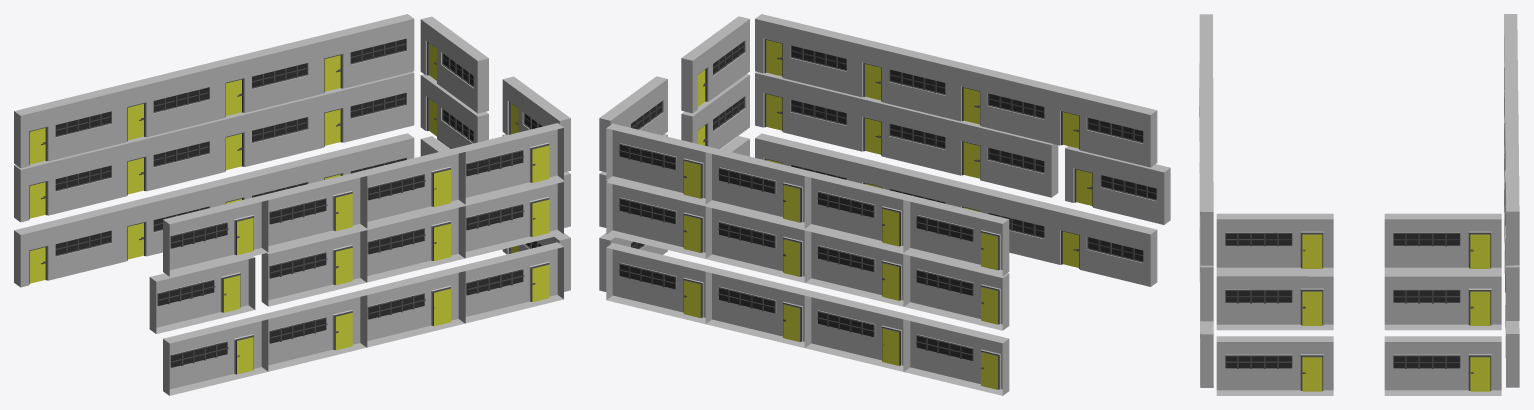
The model's file is appart zone 1.fbx.
The picture shows the model from 3 angles, left to right: view 1: azimuth 30°, elevation 25°; view 2: azimuth 150°, elevation 25°; view 3: azimuth 270°, elevation 25°; orthographic projection. The views are drawn at different scales.
Visible parts, largest first — view 1: MSH_facade_porte_appartement_01__58_, MSH_facade_porte_appartement_01__74_, MSH_facade_porte_appartement_01__46_, MSH_facade_porte_appartement_01__70_, MSH_facade_porte_appartement_01__73_, MSH_facade_porte_appartement_01__57_, MSH_facade_porte_appartement_01__72_, MSH_facade_porte_appartement_01__56_, MSH_facade_porte_appartement_01__67_, MSH_facade_porte_appartement_01__47_, MSH_facade_porte_appartement_01__75_, MSH_facade_porte_appartement_01__59_ (+16 smaller); view 2: MSH_facade_porte_appartement_01__59_, MSH_facade_porte_appartement_01__75_, MSH_facade_porte_appartement_01__71_, MSH_facade_porte_appartement_01__47_, MSH_facade_porte_appartement_01__46_, MSH_facade_porte_appartement_01__70_, MSH_facade_porte_appartement_01__44_, MSH_facade_porte_appartement_01__68_, MSH_facade_porte_appartement_01__45_, MSH_facade_porte_appartement_01__69_, MSH_facade_porte_appartement_01__56_, MSH_facade_porte_appartement_01__58_ (+16 smaller); view 3: MSH_facade_porte_appartement_01__79_, MSH_facade_porte_appartement_01__78_, MSH_facade_porte_appartement_01__83_, MSH_facade_porte_appartement_01__82_, MSH_facade_porte_appartement_01__80_, MSH_facade_porte_appartement_01__81_, MSH_facade_porte_appartement_01__47_, MSH_facade_porte_appartement_01__58_, MSH_facade_porte_appartement_01__71_, MSH_facade_porte_appartement_01__74_, MSH_facade_porte_appartement_01__63_, MSH_facade_porte_appartement_01__66_ (+6 smaller).
Boxes of the visible parts, x1,y1,x2,y2 form: MSH_facade_porte_appartement_01__58_: (458, 123, 563, 204); MSH_facade_porte_appartement_01__74_: (458, 242, 563, 323); MSH_facade_porte_appartement_01__46_: (14, 87, 118, 168); MSH_facade_porte_appartement_01__70_: (14, 206, 118, 287); MSH_facade_porte_appartement_01__73_: (261, 290, 367, 371); MSH_facade_porte_appartement_01__57_: (261, 171, 367, 252); MSH_facade_porte_appartement_01__72_: (360, 266, 465, 347); MSH_facade_porte_appartement_01__56_: (360, 147, 465, 228); MSH_facade_porte_appartement_01__67_: (149, 256, 255, 333); MSH_facade_porte_appartement_01__47_: (309, 14, 414, 95); MSH_facade_porte_appartement_01__75_: (163, 314, 267, 395); MSH_facade_porte_appartement_01__59_: (163, 195, 267, 276); MSH_facade_porte_appartement_01__59_: (1051, 86, 1157, 167); MSH_facade_porte_appartement_01__75_: (1051, 205, 1157, 286); MSH_facade_porte_appartement_01__71_: (606, 243, 711, 324); MSH_facade_porte_appartement_01__47_: (606, 123, 711, 204); MSH_facade_porte_appartement_01__46_: (903, 195, 1009, 276); MSH_facade_porte_appartement_01__70_: (903, 314, 1009, 395); MSH_facade_porte_appartement_01__44_: (804, 171, 910, 252); MSH_facade_porte_appartement_01__68_: (804, 291, 910, 371); MSH_facade_porte_appartement_01__45_: (706, 147, 811, 228); MSH_facade_porte_appartement_01__69_: (706, 267, 811, 347); MSH_facade_porte_appartement_01__56_: (853, 38, 958, 119); MSH_facade_porte_appartement_01__58_: (755, 14, 860, 95); MSH_facade_porte_appartement_01__79_: (1216, 213, 1333, 273); MSH_facade_porte_appartement_01__78_: (1384, 213, 1501, 273); MSH_facade_porte_appartement_01__83_: (1216, 336, 1333, 395); MSH_facade_porte_appartement_01__82_: (1384, 336, 1501, 395); MSH_facade_porte_appartement_01__80_: (1384, 273, 1501, 330); MSH_facade_porte_appartement_01__81_: (1216, 273, 1333, 330); MSH_facade_porte_appartement_01__47_: (1505, 162, 1519, 265); MSH_facade_porte_appartement_01__58_: (1200, 162, 1213, 265); MSH_facade_porte_appartement_01__71_: (1505, 292, 1519, 387); MSH_facade_porte_appartement_01__74_: (1200, 320, 1213, 387); MSH_facade_porte_appartement_01__63_: (1505, 236, 1519, 320); MSH_facade_porte_appartement_01__66_: (1200, 264, 1213, 321).
Bounding box in the file's own units: 65.21 × 25.33 × 41.64.
